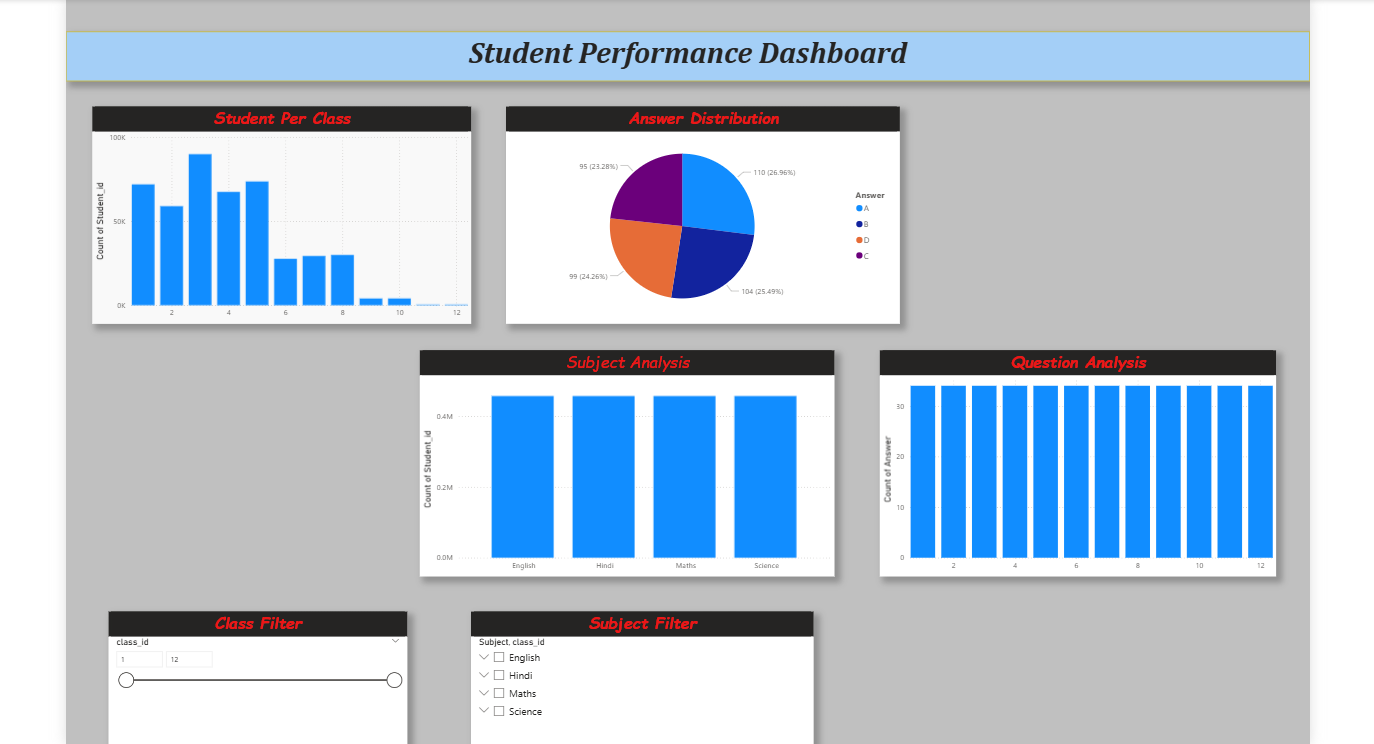

The page's visual inventory and layout, read from the dashboard file:
{"tool":"powerbi","page":{"name":"Page 1","canvas":[2000,1200],"ordinal":0},"visuals":[{"type":"clusteredColumnChart","title":"Student Per Class","fields":{"Category":["Data Sheet.class_id"],"Y":["CountNonNull(Data Sheet.Student_id)"]},"box":[42.2,172.9,609.3,349.9],"z":0},{"type":"pieChart","title":"Answer Distribution","fields":{"Category":["Test Ans.Answer"],"Y":["CountNonNull(Test Ans.Answer)"]},"box":[707.8,172.9,633.4,349.9],"z":1000},{"type":"clusteredColumnChart","title":" Question Analysis","fields":{"Category":["Test Ans.Question Number"],"Y":["CountNonNull(Test Ans.Answer)"]},"box":[1309,565,637.4,363.9],"z":2000},{"type":"clusteredColumnChart","title":"Subject Analysis","fields":{"Category":["Test Ans.Subject"],"Y":["CountNonNull(Data Sheet.Student_id)"]},"box":[569,565,667.6,363.9],"z":3000},{"type":"slicer","title":"Subject Filter","fields":{"Values":["Data Sheet.Subject","Data Sheet.class_id"]},"box":[652.1,985.3,551.3,363.6],"z":4000},{"type":"slicer","title":"Class Filter","fields":{"Values":["Data Sheet.class_id"]},"box":[68,985.3,480.9,363.6],"z":5000},{"type":"textbox","box":[0,51.6,2001,79.8],"z":6000}]}

Visuals, with their boxes on the page's 2000x1200 design canvas (x1, y1, x2, y2). These are canvas units, not pixel positions in the 1374x744 screenshot, which may show the page scaled, cropped or inside an application window:
"Student Per Class" clusteredColumnChart: Rect(42, 173, 652, 523)
"Answer Distribution" pieChart: Rect(708, 173, 1341, 523)
" Question Analysis" clusteredColumnChart: Rect(1309, 565, 1946, 929)
"Subject Analysis" clusteredColumnChart: Rect(569, 565, 1237, 929)
"Subject Filter" slicer: Rect(652, 985, 1203, 1349)
"Class Filter" slicer: Rect(68, 985, 549, 1349)
textbox: Rect(0, 52, 2001, 131)
